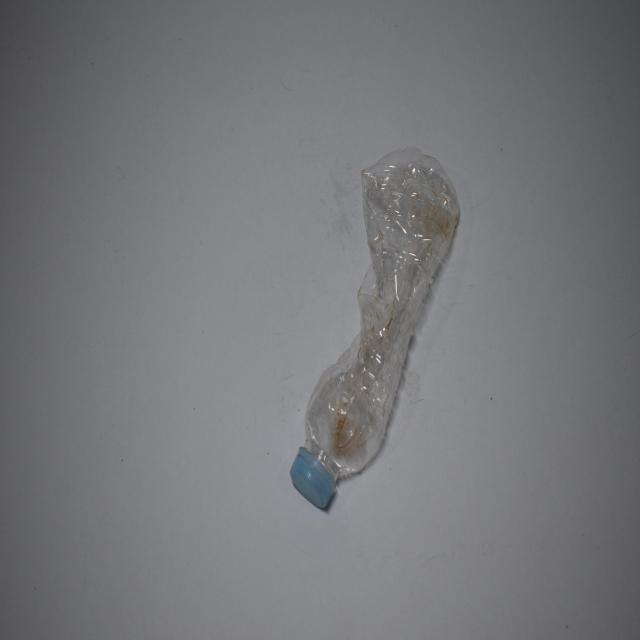empty: (306, 148, 459, 478)
